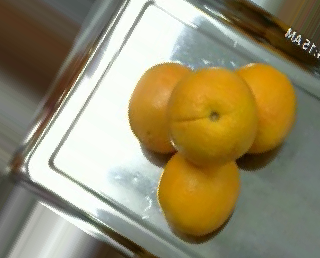Orange: (168, 66, 258, 164), (158, 148, 240, 234), (128, 62, 200, 154), (231, 62, 296, 154)
